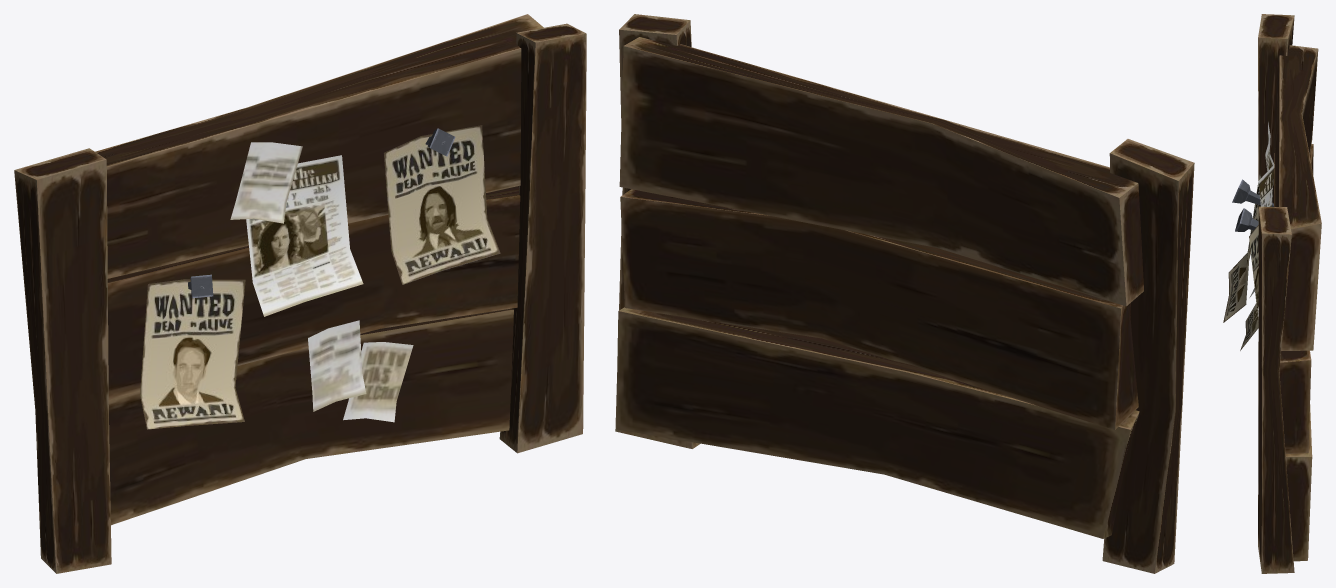
File: SM_PROP_board_01.glb
3 views of the same model, side by side, from view 1: azimuth 30°, elevation 25°; view 2: azimuth 150°, elevation 25°; view 3: azimuth 270°, elevation 25° (orthographic). The views are drawn at different scales.
Parts seen in each view (by area): view 1: SM_PROP_board_01_EXPORT; view 2: SM_PROP_board_01_EXPORT; view 3: SM_PROP_board_01_EXPORT.
Part boxes in pixels (x1,y1,x2,y2): SM_PROP_board_01_EXPORT: (14, 14, 586, 573); SM_PROP_board_01_EXPORT: (615, 14, 1194, 573); SM_PROP_board_01_EXPORT: (1223, 14, 1321, 573).
Bounding box in the file's own units: 2.15 × 1.54 × 0.3859.
3 materials, 3 textured.
